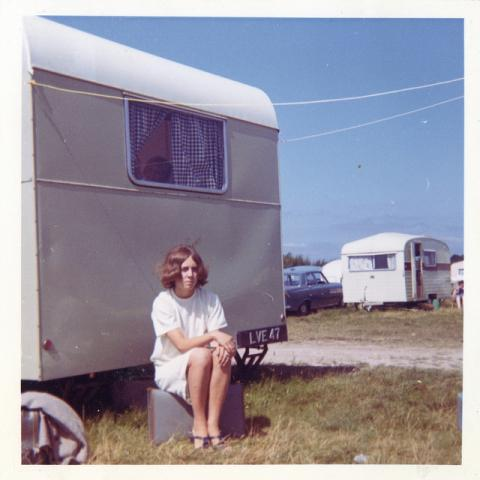car: (283, 266, 347, 314)
